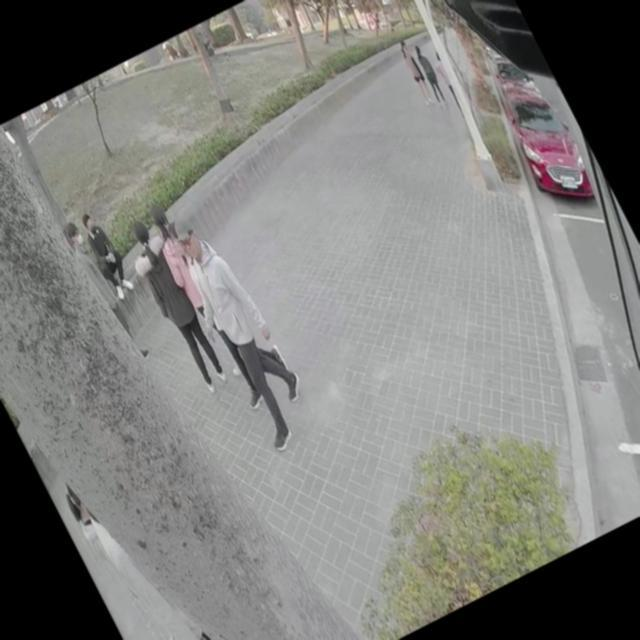person: (163, 203, 322, 452), (82, 481, 249, 640), (117, 214, 230, 394), (159, 221, 263, 409), (60, 220, 138, 349), (142, 204, 204, 308), (76, 209, 136, 297), (393, 36, 436, 106), (409, 44, 448, 107)
